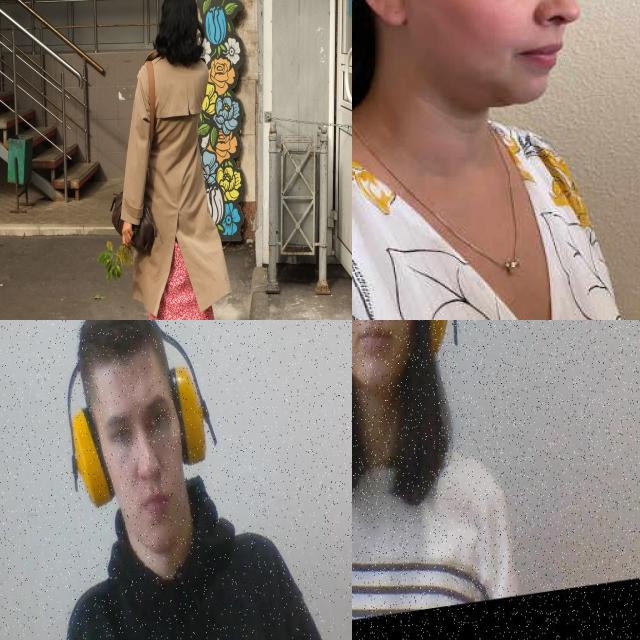Ear-protection: (352, 320, 465, 417), (65, 389, 122, 519)
No_Ear-Protection: (356, 0, 408, 28)
